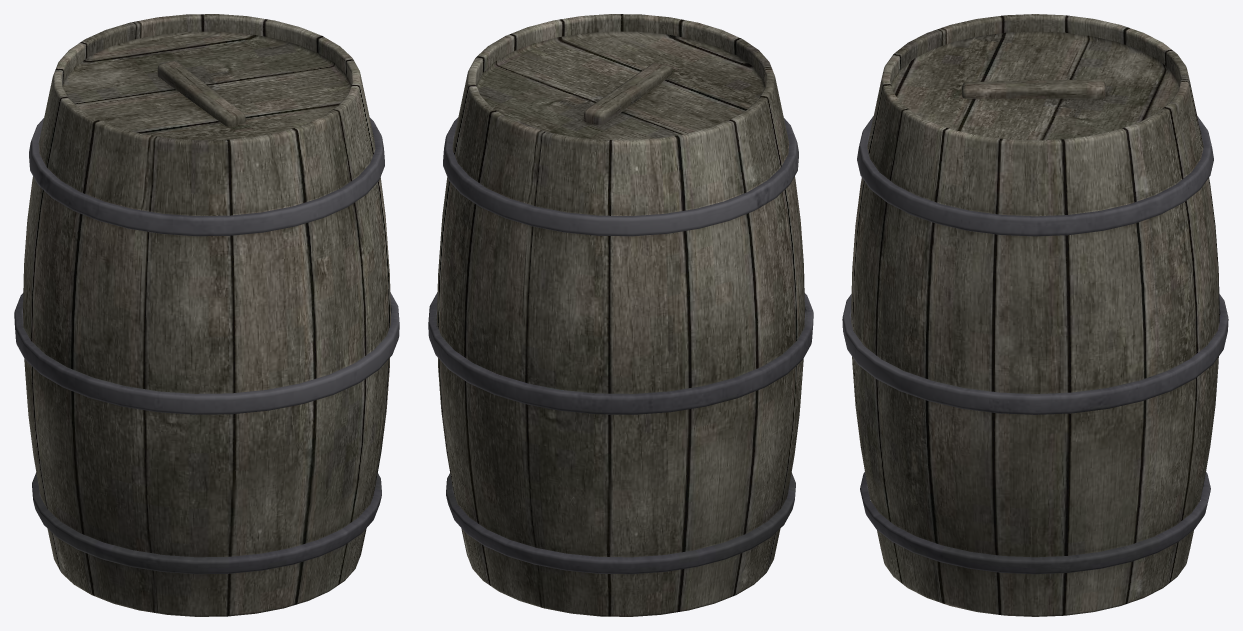
Rendered from vh_barrel.glb.
3 views of the same model, side by side, from view 1: azimuth 30°, elevation 25°; view 2: azimuth 150°, elevation 25°; view 3: azimuth 270°, elevation 25° (orthographic).
Parts seen in each view (by area): view 1: barrel; view 2: barrel; view 3: barrel.
Boxes of the visible parts, x1,y1,x2,y2 form: barrel: (14,14,399,616); barrel: (428,14,813,616); barrel: (842,14,1228,616).
Bounding box in the file's own units: 0.705 × 0.9554 × 0.705.
1 material, 1 textured.
